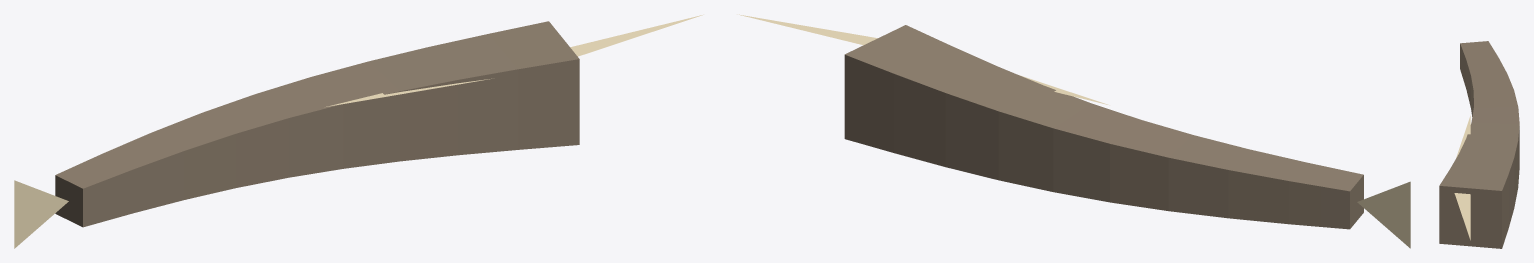
The model's file is fish_serpentine.glb.
3 renders of one model, left to right at view 1: azimuth 30°, elevation 25°; view 2: azimuth 150°, elevation 25°; view 3: azimuth 270°, elevation 25°, orthographic. The views are drawn at different scales.
Visible parts, largest first — view 1: SnakeFish, e_tail, e_dorsal; view 2: SnakeFish, e_tail, e_dorsal; view 3: SnakeFish, e_dorsal.
Part boxes in pixels (x1,y1,x2,y2): SnakeFish: (55, 21, 579, 227); e_tail: (14, 180, 68, 248); e_dorsal: (326, 14, 703, 106); SnakeFish: (844, 25, 1363, 229); e_tail: (1357, 181, 1410, 248); e_dorsal: (737, 14, 1109, 105); SnakeFish: (1439, 41, 1519, 248); e_dorsal: (1454, 115, 1470, 240).
Size of the model in its own units: 1.26 by 0.15 by 0.1885.
